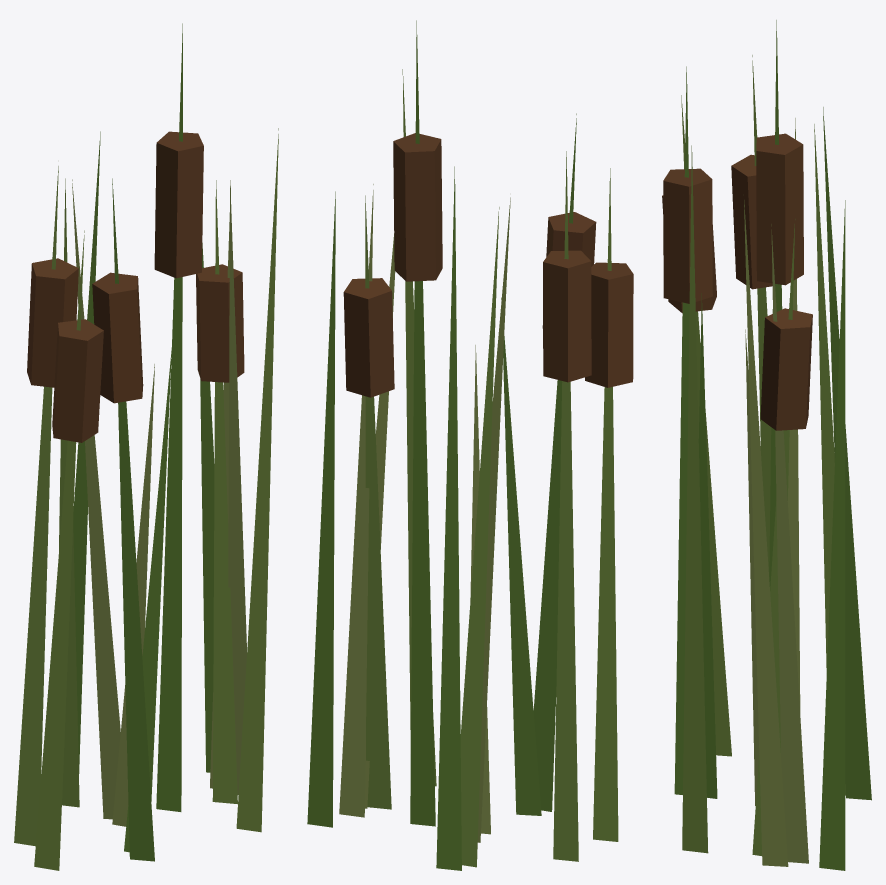
Rendered from reeds.glb.
3 views of the same model, side by side, from view 1: azimuth 30°, elevation 25°; view 2: azimuth 150°, elevation 25°; view 3: azimuth 270°, elevation 25° (orthographic). The views are drawn at different scales.
Parts seen in each view (by area): view 1: base; view 2: base; view 3: base.
Boxes of the visible parts, box(x1,y1,x2,y2) form: base: box(14, 23, 278, 870); base: box(307, 20, 633, 870); base: box(662, 20, 871, 870).
Bounding box in the file's own units: 0.2288 × 0.6982 × 0.1618.
